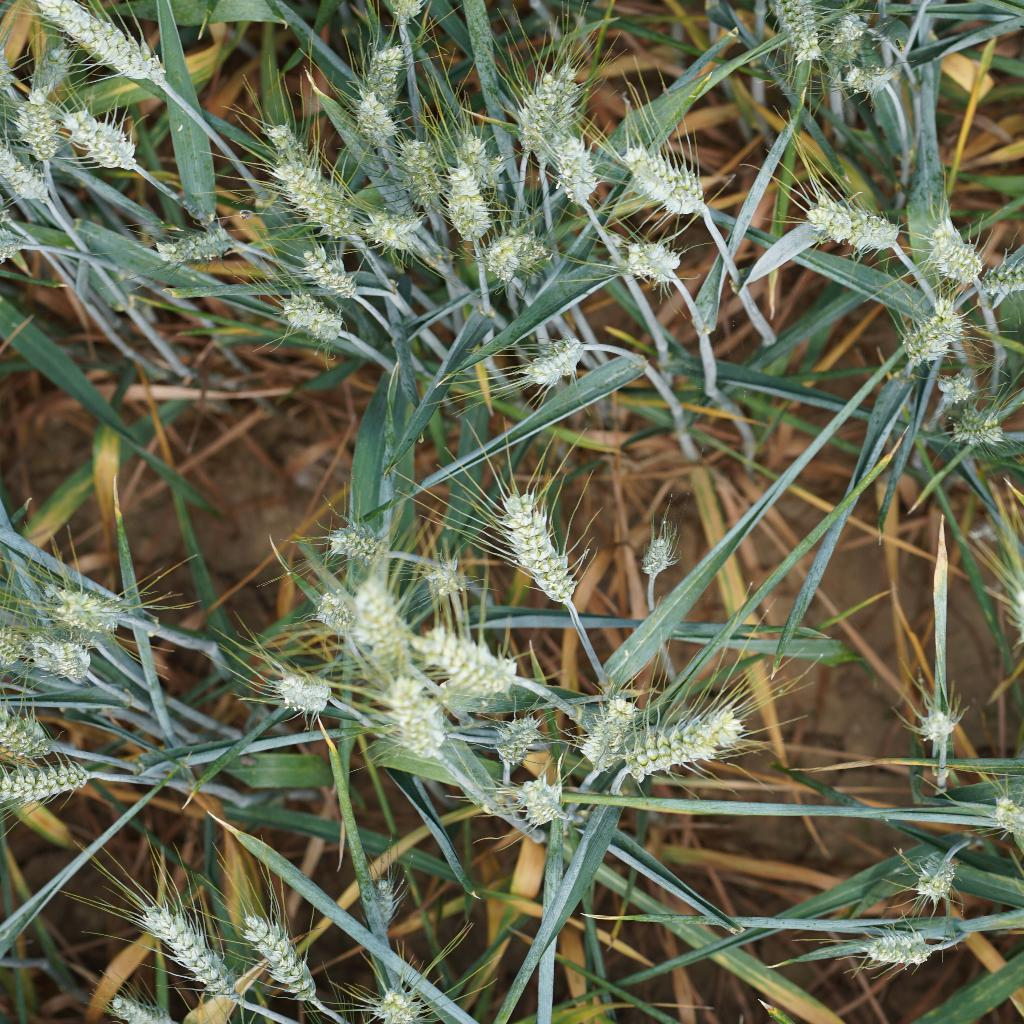0-0: (17, 0, 171, 103), (482, 477, 594, 615), (261, 117, 366, 248), (122, 894, 246, 1000), (598, 713, 746, 799), (258, 116, 357, 242), (231, 899, 333, 1015), (610, 134, 716, 225), (791, 187, 904, 258), (413, 619, 520, 692), (63, 104, 154, 189), (567, 671, 636, 778), (352, 576, 418, 684), (30, 563, 123, 636), (152, 213, 246, 283), (382, 686, 455, 768), (271, 291, 370, 350), (552, 131, 613, 225), (384, 133, 449, 218), (909, 845, 982, 920), (612, 227, 697, 291), (0, 150, 67, 230), (0, 759, 108, 808), (519, 322, 593, 393), (10, 86, 63, 185), (851, 912, 938, 971), (14, 620, 98, 681), (630, 514, 702, 585), (258, 653, 333, 721), (919, 213, 986, 288), (290, 240, 381, 295), (950, 395, 1024, 462), (519, 66, 570, 159), (18, 35, 82, 107), (768, 0, 829, 73), (93, 976, 182, 1024), (443, 164, 497, 243), (314, 508, 387, 565), (508, 777, 576, 837), (909, 680, 963, 754), (359, 860, 413, 934), (836, 59, 919, 107), (886, 298, 955, 355), (344, 93, 408, 152), (358, 198, 428, 250), (0, 710, 74, 759), (361, 44, 421, 104), (482, 706, 546, 762), (298, 589, 366, 641), (458, 129, 509, 193), (403, 546, 468, 595), (358, 980, 426, 1024), (967, 258, 1024, 310), (485, 227, 541, 279), (830, 8, 878, 58), (925, 370, 977, 409)
